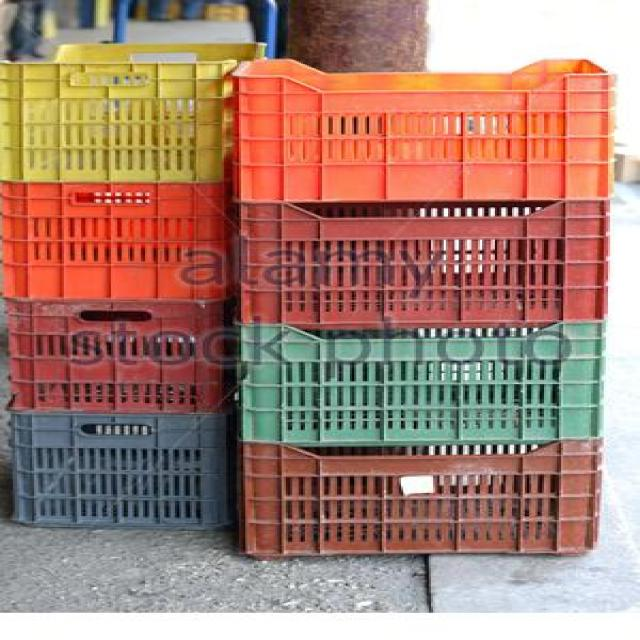basket: (232, 58, 615, 202), (240, 200, 611, 330), (239, 438, 606, 560), (243, 324, 606, 447), (0, 60, 236, 182), (2, 182, 231, 300), (10, 416, 233, 529), (6, 302, 231, 413)
